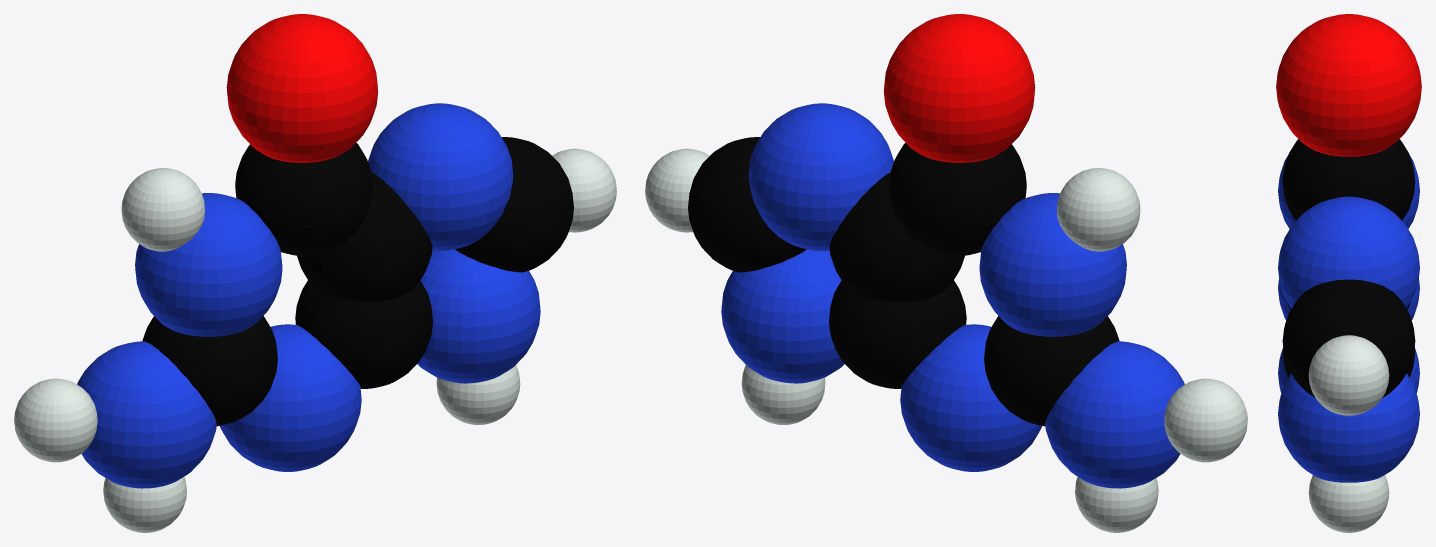
Rendered from Guanina.glb.
3 views of the same model, side by side, from view 1: azimuth 30°, elevation 25°; view 2: azimuth 150°, elevation 25°; view 3: azimuth 270°, elevation 25° (orthographic). The views are drawn at different scales.
Visible parts, largest first — view 1: Carbono.010; view 2: Carbono.010; view 3: Carbono.010.
Part boxes in pixels (x1,y1,x2,y2): Carbono.010: (14,14,616,532); Carbono.010: (645,14,1247,532); Carbono.010: (1276,14,1421,532).
Bounding box in the file's own units: 2.73 × 2.07 × 0.6073.
